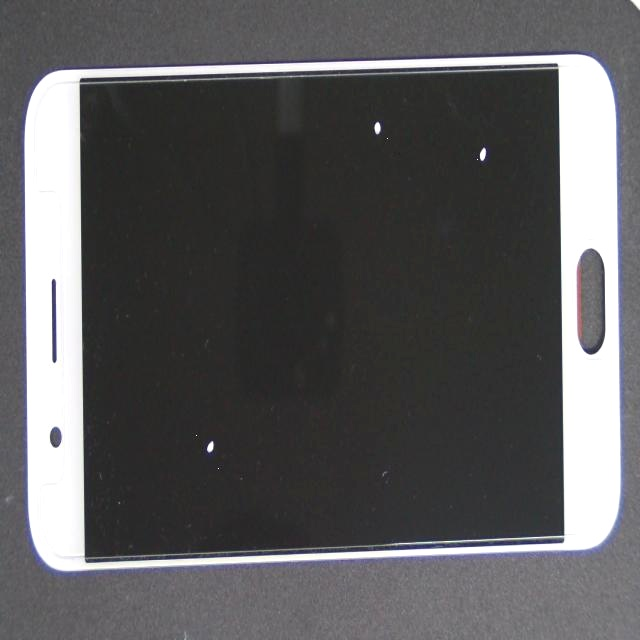stain: (100, 179, 297, 640), (230, 99, 640, 298), (172, 78, 520, 235)
